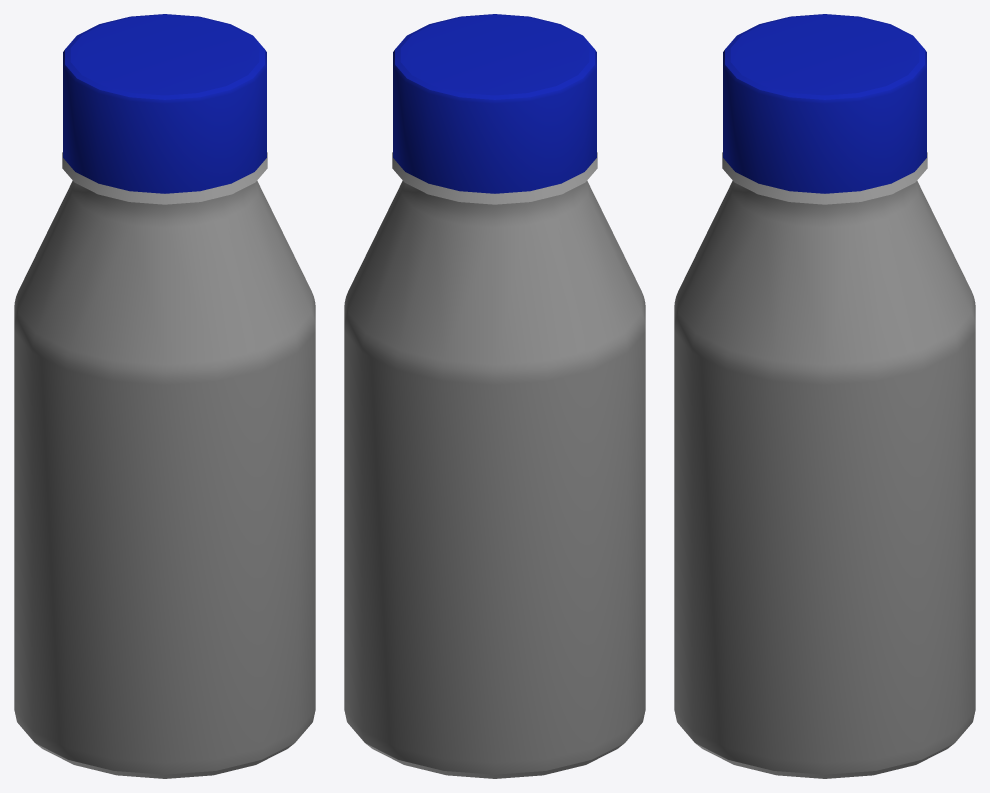
Rendered from Bottle.FBX.
The picture shows the model from 3 angles, left to right: view 1: azimuth 30°, elevation 25°; view 2: azimuth 150°, elevation 25°; view 3: azimuth 270°, elevation 25°; orthographic projection.
Visible parts, largest first — view 1: Bottle, Cap; view 2: Bottle, Cap; view 3: Bottle, Cap.
Boxes of the visible parts, x1,y1,x2,y2 form: Bottle: (14,152,315,778); Cap: (63,14,266,193); Bottle: (344,152,645,778); Cap: (393,14,596,193); Bottle: (674,152,975,778); Cap: (723,14,926,193).
Size of the model in its own units: 3.91 by 9.39 by 3.85.
